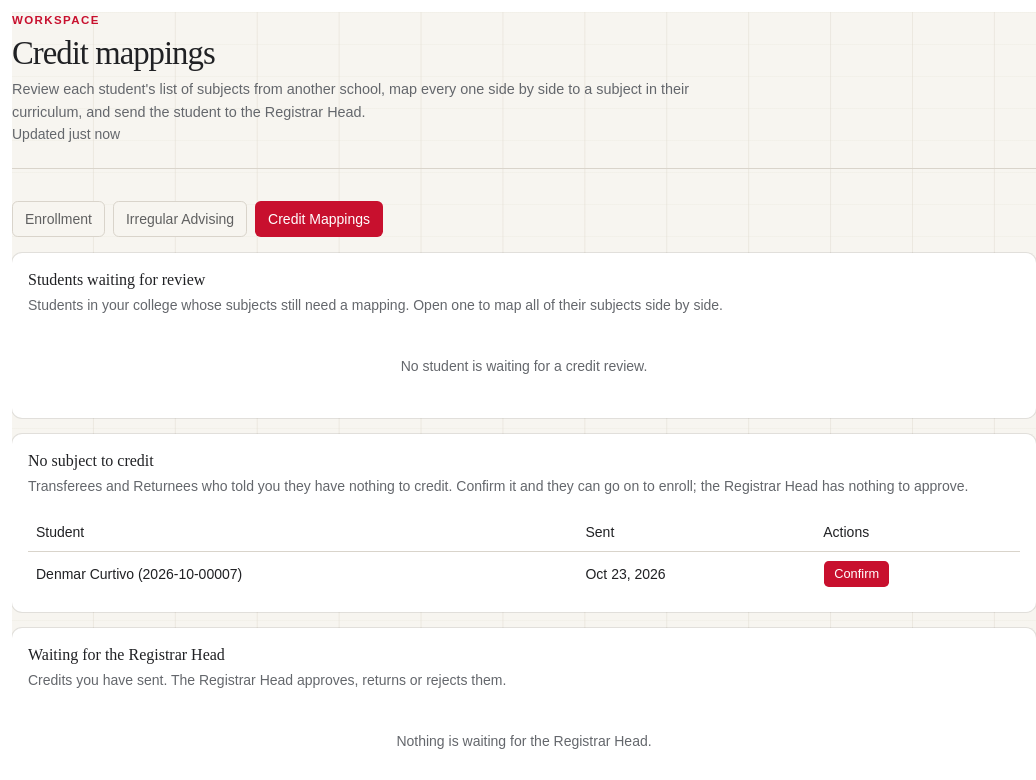
Scenario: no subject to credit › on the Program Head's Credit Mappings page › lists the students with nothing to credit and confirms one
expect the text "Denmar Curtivo (2026-10-00007)" is shown: met, box [28,552,578,596]
Click the button with aria-label "Confirm that Denmar Curtivo has no subject to credit": point(857, 574) [823,560,890,588]
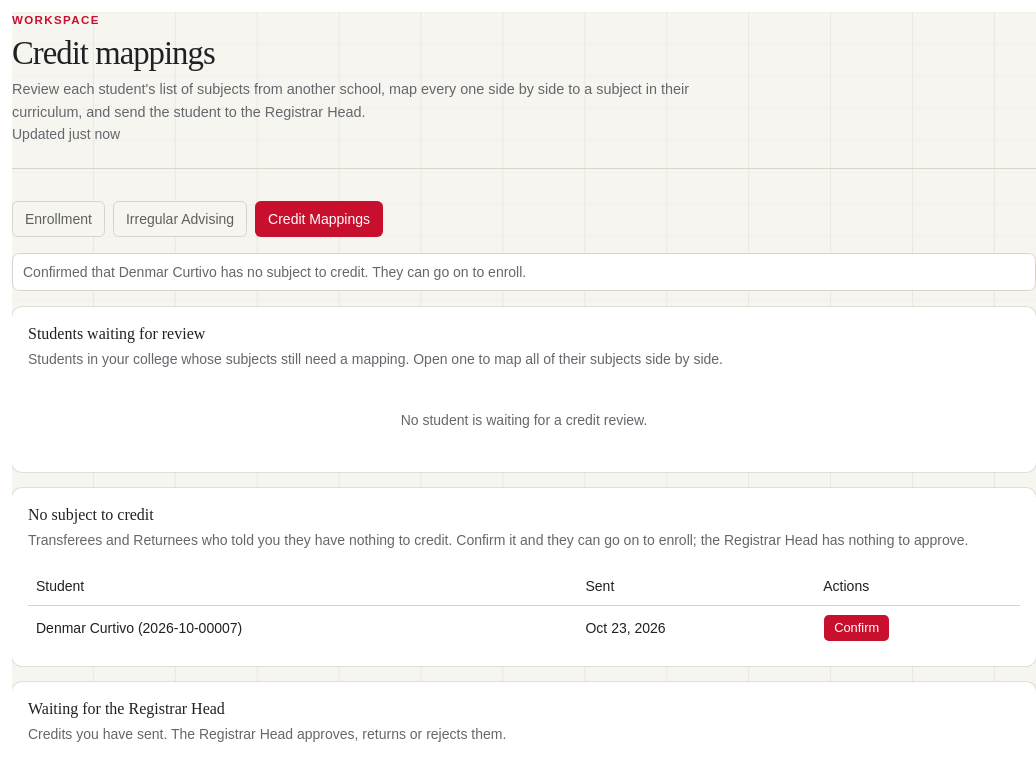
expect the text "Confirmed that Denmar Curtivo has no subject to credit" is shown: met, box [23,264,526,280]
